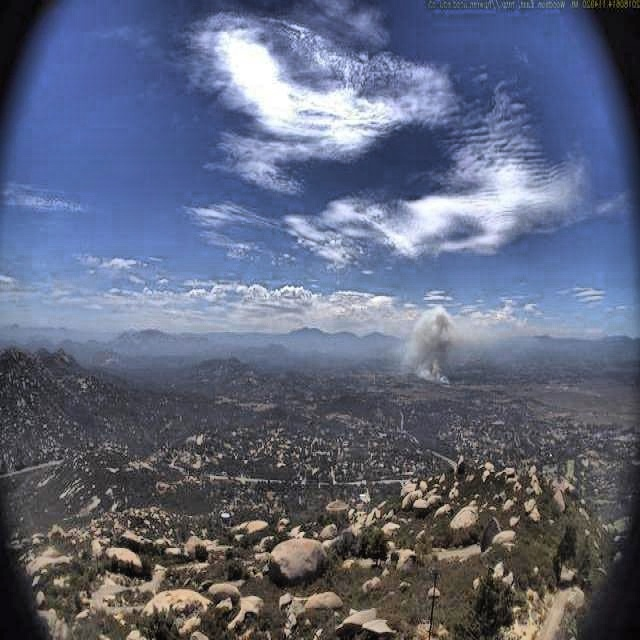smoke: (400, 303, 455, 389)
